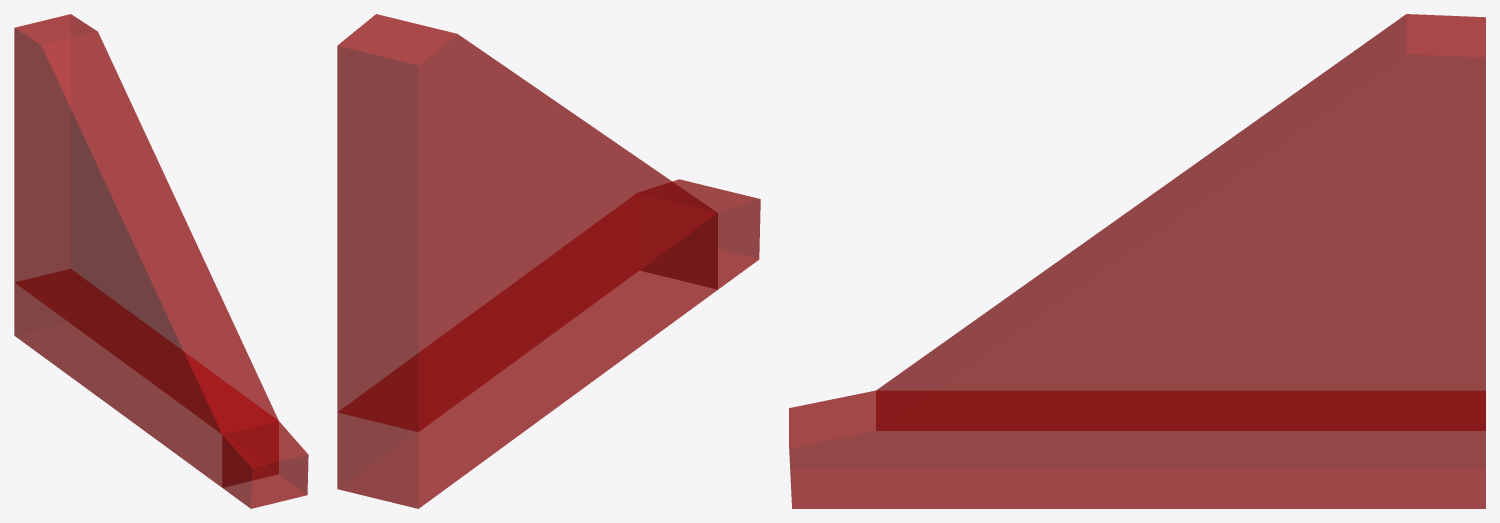
Rendered from SM_Bld_Escalator_Gap_01_Collision.fbx.
The picture shows the model from 3 angles, left to right: view 1: azimuth 30°, elevation 25°; view 2: azimuth 150°, elevation 25°; view 3: azimuth 270°, elevation 25°; orthographic projection. The views are drawn at different scales.
Parts seen in each view (by area): view 1: SM_Bld_Escalator_Gap_01_Collision; view 2: SM_Bld_Escalator_Gap_01_Collision; view 3: SM_Bld_Escalator_Gap_01_Collision.
Part boxes in pixels (bbox=[...]): SM_Bld_Escalator_Gap_01_Collision: bbox=[14, 14, 308, 508]; SM_Bld_Escalator_Gap_01_Collision: bbox=[337, 14, 760, 508]; SM_Bld_Escalator_Gap_01_Collision: bbox=[789, 14, 1485, 508].
Bounding box in the file's own units: 132 × 691 × 960.
